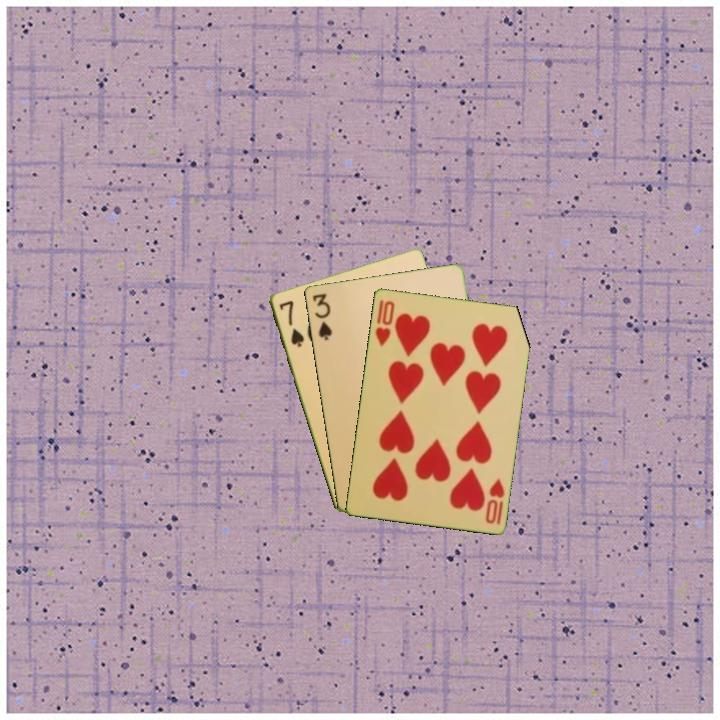10h: (481, 474, 507, 527), (372, 296, 397, 349)
3s: (309, 290, 335, 343)
7s: (275, 297, 307, 350)
